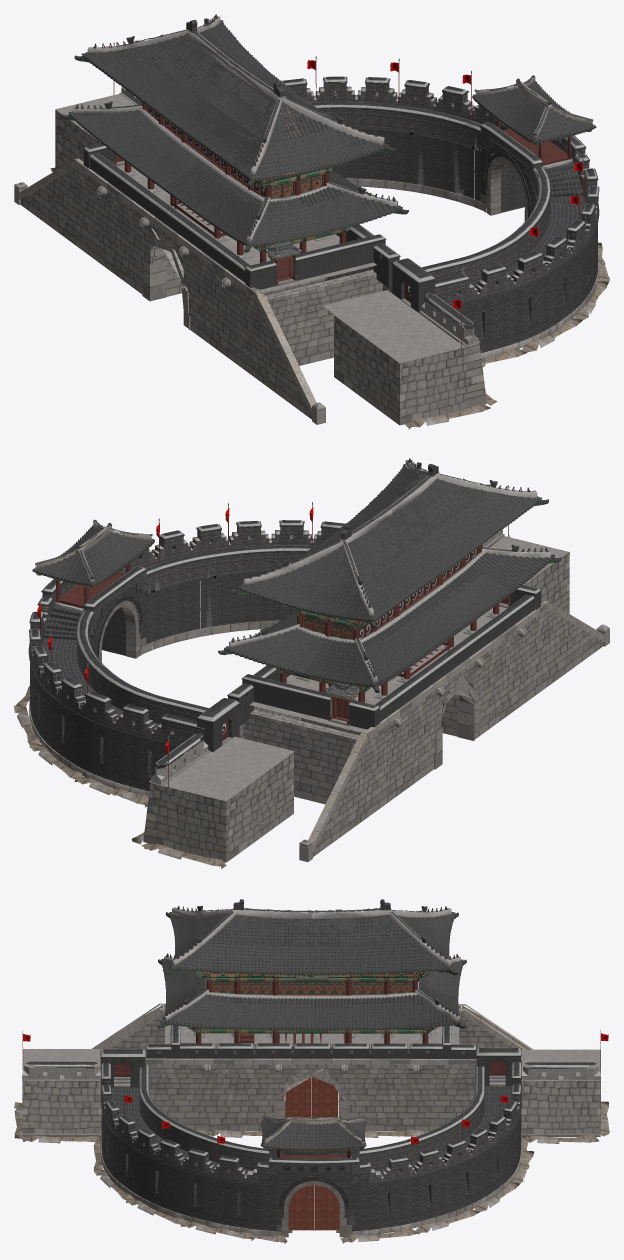
File: paldal.glb
The picture shows the model from 3 angles, top to bottom: view 1: azimuth 30°, elevation 25°; view 2: azimuth 150°, elevation 25°; view 3: azimuth 270°, elevation 25°; orthographic projection. The views are drawn at different scales.
Visible parts, largest first — view 1: Object_47, Object_53, Object_30, Object_44, Object_12, Object_48, Object_7, Object_41, Object_11, Object_32, Object_31, Object_13 (+20 smaller); view 2: Object_47, Object_53, Object_30, Object_44, Object_12, Object_8, Object_7, Object_48, Object_6, Object_41, Object_32, Object_31 (+18 smaller); view 3: Object_47, Object_53, Object_30, Object_44, Object_9, Object_31, Object_35, Object_10, Object_4, Object_48, Object_41, Object_5 (+19 smaller).
Boxes of the visible parts, x1,y1,x2,y2 form: Object_47: (20, 166, 599, 419); Object_53: (332, 129, 597, 352); Object_30: (288, 83, 598, 308); Object_44: (55, 93, 486, 425); Object_12: (82, 33, 275, 174); Object_48: (56, 94, 464, 362); Object_7: (68, 110, 265, 244); Object_41: (82, 147, 436, 313); Object_11: (135, 26, 402, 246); Object_32: (88, 86, 597, 294); Object_31: (84, 76, 599, 307); Object_13: (82, 35, 276, 179); Object_47: (29, 608, 603, 856); Object_53: (30, 571, 293, 791); Object_30: (29, 526, 338, 748); Object_44: (143, 536, 569, 862); Object_12: (347, 478, 535, 621); Object_8: (237, 498, 554, 630); Object_7: (362, 552, 554, 686); Object_48: (163, 536, 567, 800); Object_6: (224, 467, 553, 687); Object_41: (196, 589, 541, 751); Object_32: (31, 530, 534, 733); Object_31: (28, 520, 540, 748); Object_47: (100, 1010, 521, 1236); Object_53: (101, 1111, 521, 1231); Object_30: (101, 1079, 521, 1184); Object_44: (22, 1049, 600, 1133); Object_9: (170, 912, 453, 974); Object_31: (100, 1025, 521, 1186); Object_35: (14, 1061, 609, 1243); Object_10: (176, 914, 446, 974); Object_4: (162, 994, 461, 1030); Object_48: (24, 1011, 599, 1074); Object_41: (100, 1025, 521, 1087); Object_5: (166, 912, 461, 1026).
Size of the model in its own units: 39.75 by 22.57 by 58.5.
47 materials, 47 textured.
